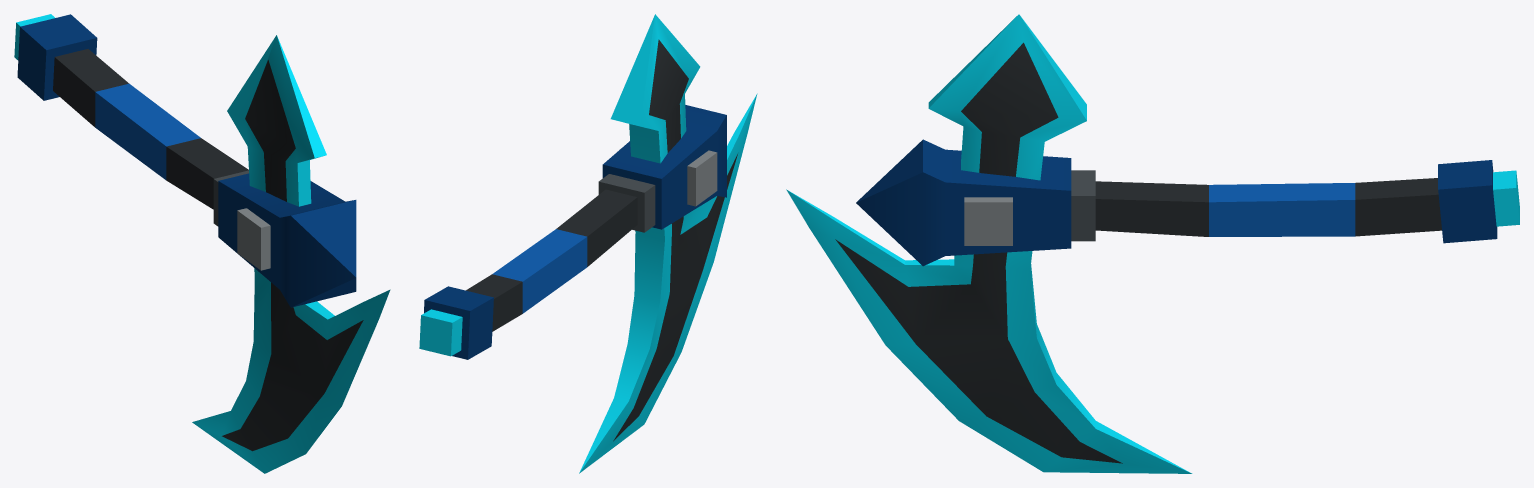
Rendered from Scythe 03.FBX.
The picture shows the model from 3 angles, left to right: view 1: azimuth 30°, elevation 25°; view 2: azimuth 150°, elevation 25°; view 3: azimuth 270°, elevation 25°; orthographic projection. The views are drawn at different scales.
Parts seen in each view (by area): view 1: Scythe 03; view 2: Scythe 03; view 3: Scythe 03.
Boxes of the visible parts, left/top/right/bottom form: Scythe 03: left=14, top=14, right=390, bottom=473; Scythe 03: left=419, top=14, right=757, bottom=473; Scythe 03: left=786, top=14, right=1519, bottom=473.
Bounding box in the file's own units: 14.8 × 75.06 × 109.
Materials: 1 (1 with a texture image).
